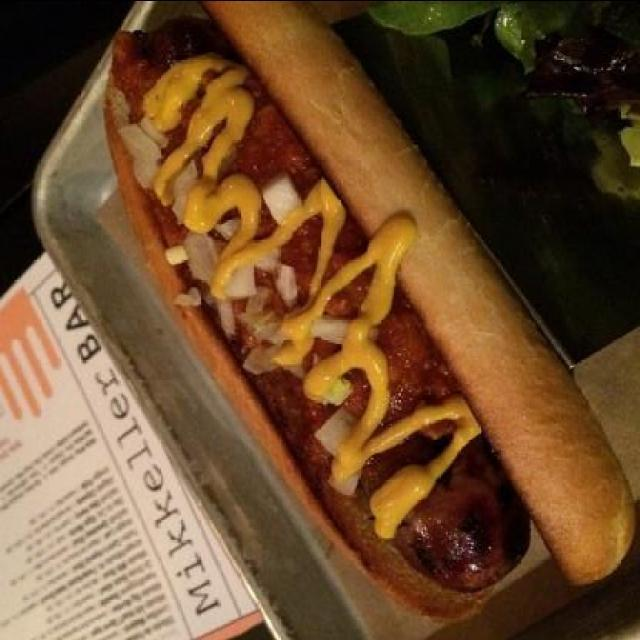Hot dog: (91, 0, 640, 622)
